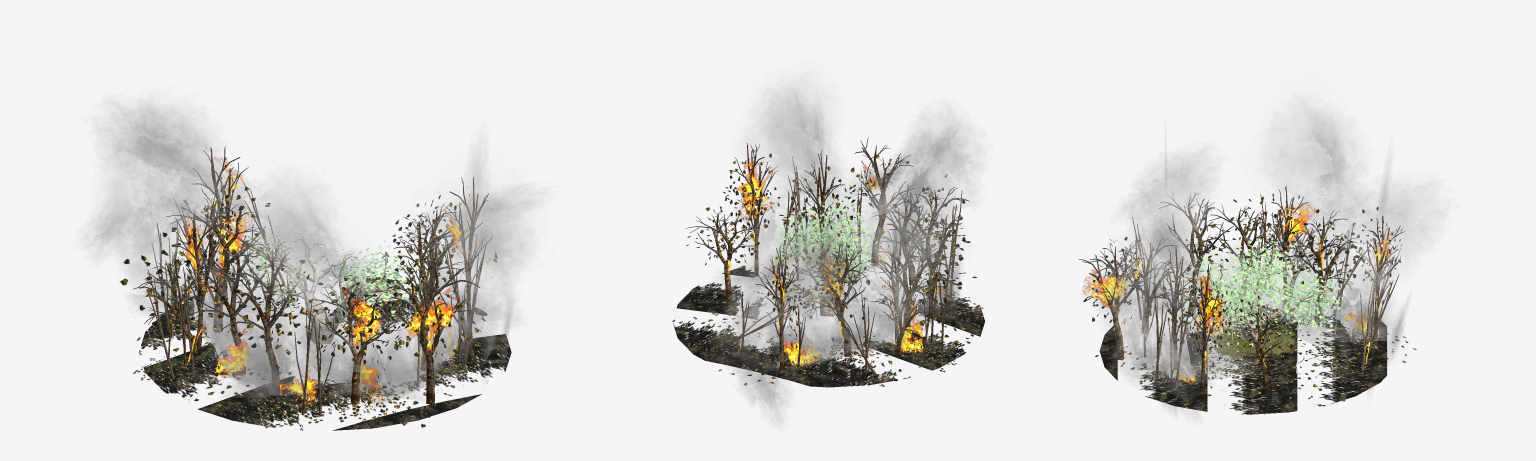
3 renders of one model, left to right at view 1: azimuth 30°, elevation 25°; view 2: azimuth 150°, elevation 25°; view 3: azimuth 270°, elevation 25°, orthographic. The views are drawn at different scales.
Visible parts, largest first — view 1: Smoke_Smoke_0, Smoke.001_Smoke_0, Smoke.002_Smoke_0, Circle_ForestFloor_0, Smoke.003_Smoke_0, SmokeScreen_SmokeScreen_0, SmokeScreen.006_SmokeScreen_0, OldTree|Circle.027|Dupli|0.0.0.0.0.0.0.0.0_Birch_0, SmokeScreen.003_SmokeScreen_0, SmokeScreen.007_SmokeScreen_0, LeafsBurnt.028_LeafsBurntLessDense_0, LeafsBurnt.026_LeafsBurntLessDense_0 (+26 smaller); view 2: Smoke.003_Smoke_0, Smoke_Smoke_0, Smoke.002_Smoke_0, Circle_ForestFloor_0, Smoke.001_Smoke_0, SmokeScreen.002_SmokeScreen_0, OldTree|Circle.027|Dupli|0.0.0.0.0.0.0.0.0_Birch_0, SmokeScreen.005_SmokeScreen_0, SmokeScreen_SmokeScreen_0, SmokeScreen.001_SmokeScreen_0, LeafsBurnt.028_LeafsBurntLessDense_0, LeafsBurnt.030_LeafsBurntLessDense_0 (+36 smaller); view 3: Smoke.003_Smoke_0, Smoke_Smoke_0, Smoke.002_Smoke_0, Circle_ForestFloor_0, Smoke.001_Smoke_0, SmokeScreen.005_SmokeScreen_0, OldTree|Circle.027|Dupli|0.0.0.0.0.0.0.0.0_Birch_0, SmokeScreen.002_SmokeScreen_0, SmokeScreen.001_SmokeScreen_0, GreenFloor_GreenFloor_0, SmokeScreen.004_SmokeScreen_0, SmokeScreen.007_SmokeScreen_0 (+32 smaller).
Part boxes in pixels (x1,y1,x2,y2): Smoke_Smoke_0: [85, 104, 237, 318]; Smoke.001_Smoke_0: [240, 169, 385, 383]; Smoke.002_Smoke_0: [411, 135, 543, 380]; Circle_ForestFloor_0: [139, 275, 511, 430]; Smoke.003_Smoke_0: [114, 94, 293, 257]; SmokeScreen_SmokeScreen_0: [208, 304, 342, 398]; SmokeScreen.006_SmokeScreen_0: [321, 328, 451, 409]; OldTree|Circle.027|Dupli|0.0.0.0.0.0.0.0.0_Birch_0: [242, 233, 402, 343]; SmokeScreen.003_SmokeScreen_0: [283, 296, 419, 398]; SmokeScreen.007_SmokeScreen_0: [222, 283, 334, 373]; LeafsBurnt.028_LeafsBurntLessDense_0: [119, 232, 256, 335]; LeafsBurnt.026_LeafsBurntLessDense_0: [217, 260, 352, 360]; Smoke.003_Smoke_0: [711, 215, 861, 420]; Smoke_Smoke_0: [845, 148, 963, 352]; Smoke.002_Smoke_0: [737, 71, 853, 268]; Circle_ForestFloor_0: [672, 266, 985, 387]; Smoke.001_Smoke_0: [852, 108, 980, 256]; SmokeScreen.002_SmokeScreen_0: [749, 309, 869, 370]; OldTree|Circle.027|Dupli|0.0.0.0.0.0.0.0.0_Birch_0: [768, 214, 877, 319]; SmokeScreen.005_SmokeScreen_0: [748, 210, 863, 278]; SmokeScreen_SmokeScreen_0: [917, 253, 960, 331]; SmokeScreen.001_SmokeScreen_0: [833, 306, 915, 359]; LeafsBurnt.028_LeafsBurntLessDense_0: [874, 233, 977, 326]; LeafsBurnt.030_LeafsBurntLessDense_0: [723, 148, 780, 253]; Smoke.003_Smoke_0: [1323, 151, 1442, 395]; Smoke_Smoke_0: [1251, 76, 1363, 319]; Smoke.002_Smoke_0: [1101, 197, 1201, 413]; Circle_ForestFloor_0: [1099, 304, 1387, 414]; Smoke.001_Smoke_0: [1123, 128, 1217, 296]; SmokeScreen.005_SmokeScreen_0: [1150, 323, 1248, 383]; OldTree|Circle.027|Dupli|0.0.0.0.0.0.0.0.0_Birch_0: [1179, 249, 1331, 346]; SmokeScreen.002_SmokeScreen_0: [1299, 252, 1370, 359]; SmokeScreen.001_SmokeScreen_0: [1228, 246, 1332, 350]; GreenFloor_GreenFloor_0: [1206, 325, 1298, 358]; SmokeScreen.004_SmokeScreen_0: [1145, 316, 1229, 378]; SmokeScreen.007_SmokeScreen_0: [1192, 258, 1305, 328].
Size of the model in its own units: 3015 by 2536 by 3105.
Materials: 15 (15 with a texture image).
